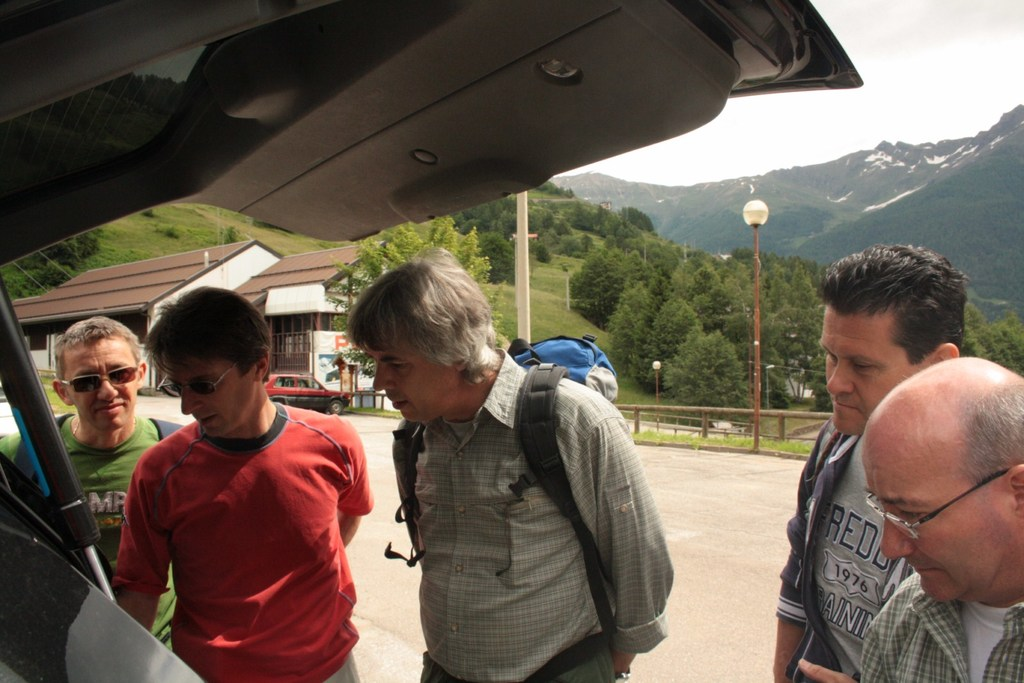Tree: (314, 179, 1023, 425), (609, 272, 679, 382), (0, 229, 104, 300)
